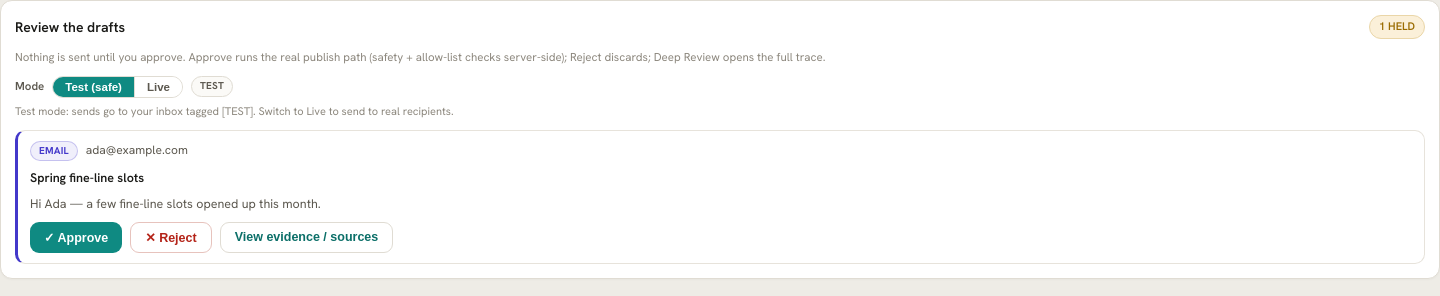
StagedDraftsReview › Reject routes the reject mutation and flips the card
Click the button with aria-label "Reject draft" at (171, 237), box [130, 222, 212, 253]
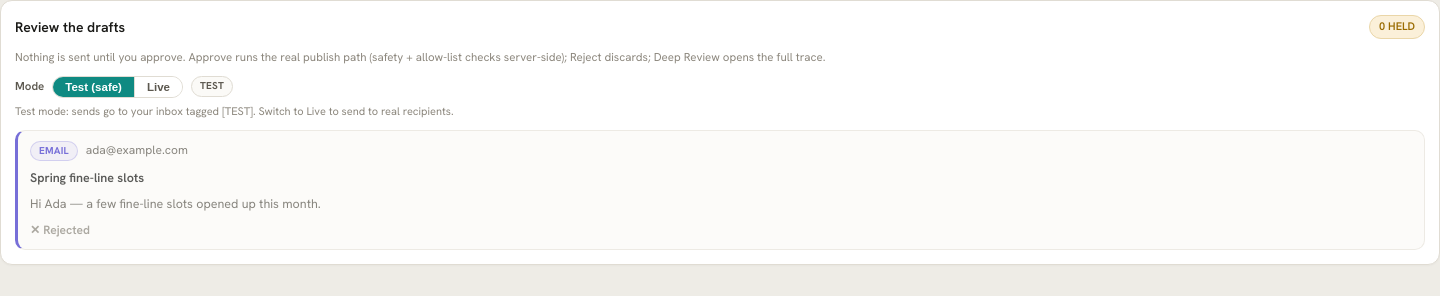
Expected: the text "✕ Rejected" is shown, [30, 222, 90, 238]
